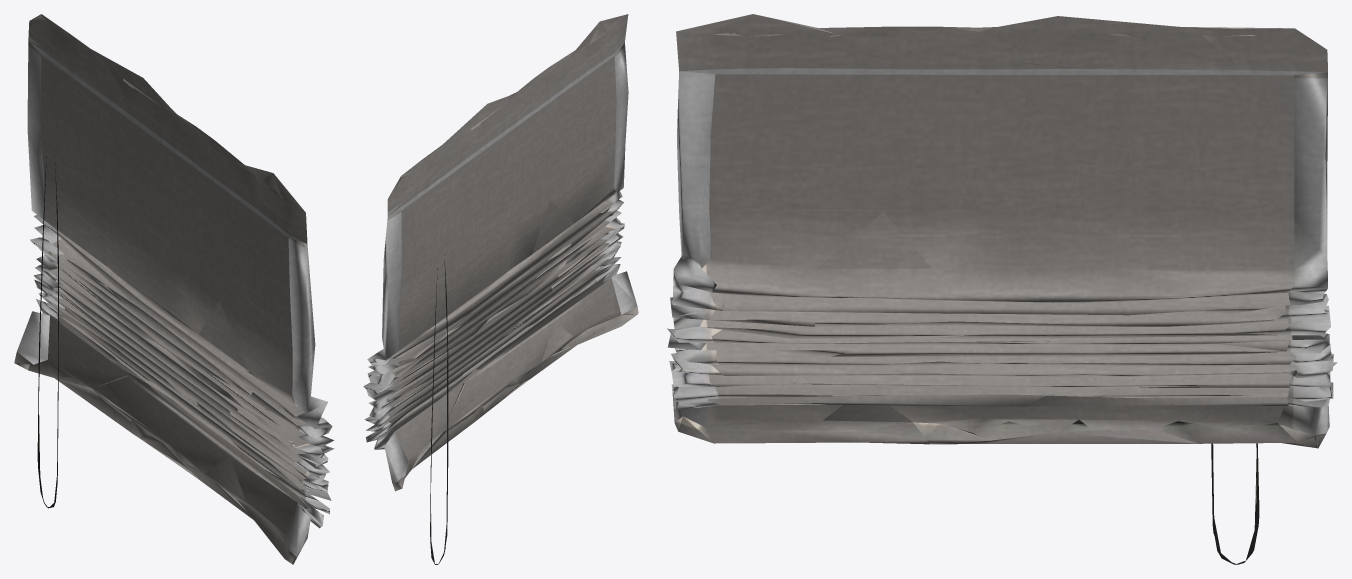
The model's file is Curtains0009.obj.
3 views of the same model, side by side, from view 1: azimuth 30°, elevation 25°; view 2: azimuth 150°, elevation 25°; view 3: azimuth 270°, elevation 25° (orthographic). The views are drawn at different scales.
Size of the model in its own units: 0.086 by 0.82 by 0.889.
1 material, 1 textured.
